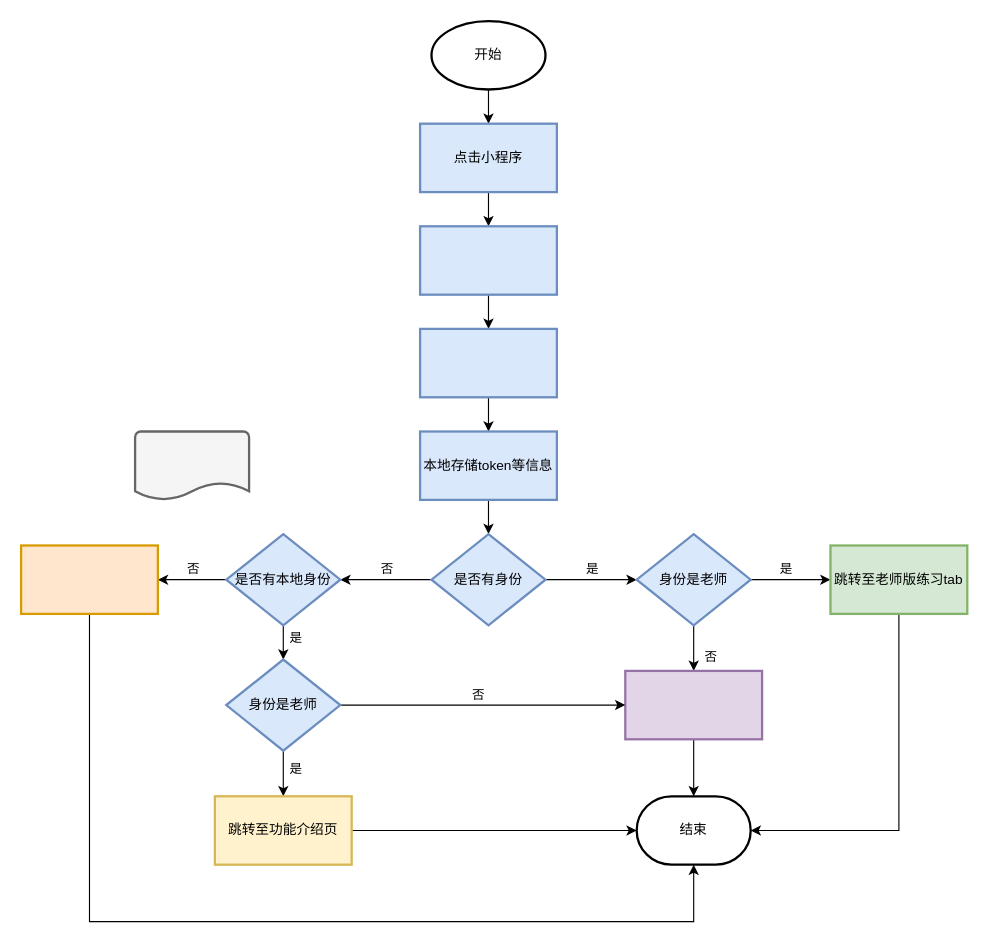
The diagram is 987 pixels wide and 951 high, and some of its shapes have lost their labels. Here are the shapes that lost their labels. From the top down, the centre of each, then its label:
the point at 487,260: 进入登录页
the point at 487,362: 访问登录接口获取token与身份、昵称等
the point at 191,465: 本地身份：小程序本地存储中的临时身份
the point at 88,579: 跳转至选择身份页
the point at 693,704: 跳转至家长版练习tab
